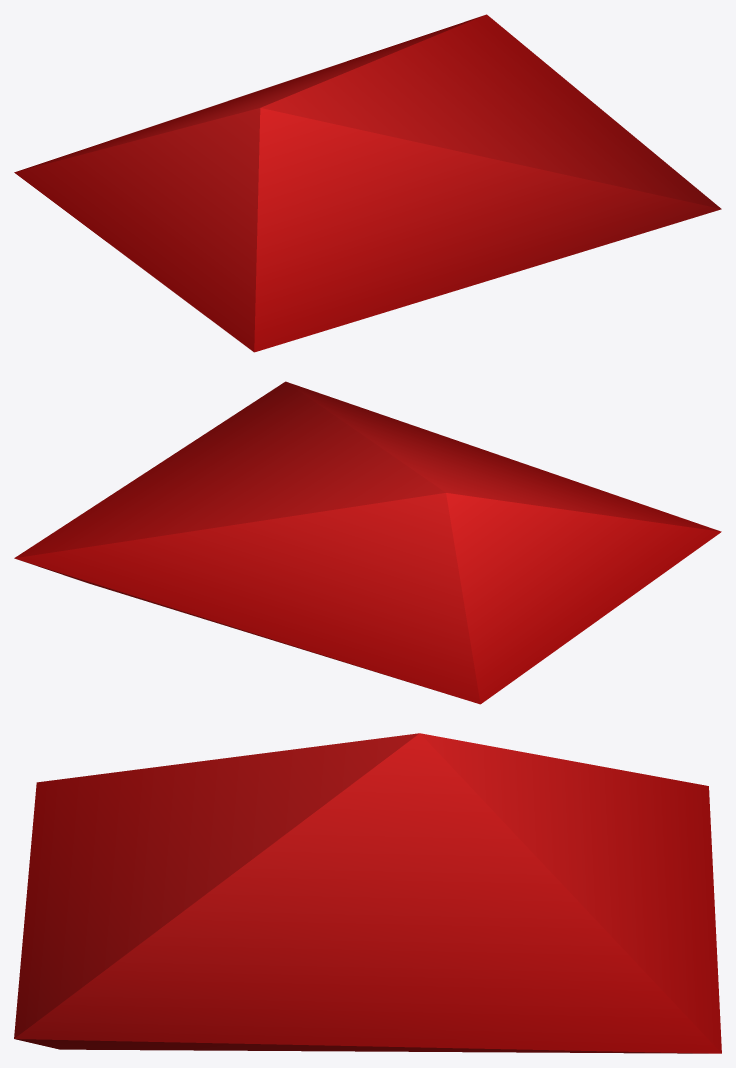
The model's file is c_roof_square_ad.fbx.
The picture shows the model from 3 angles, top to bottom: view 1: azimuth 30°, elevation 25°; view 2: azimuth 150°, elevation 25°; view 3: azimuth 270°, elevation 25°; orthographic projection. The views are drawn at different scales.
Parts seen in each view (by area): view 1: c_roof_square_ad; view 2: c_roof_square_ad; view 3: c_roof_square_ad.
Part boxes in pixels (x1,y1,x2,y2): c_roof_square_ad: (14,14,721,352); c_roof_square_ad: (14,381,721,704); c_roof_square_ad: (14,733,721,1053).
Size of the model in its own units: 7.49 by 1.68 by 6.94.
